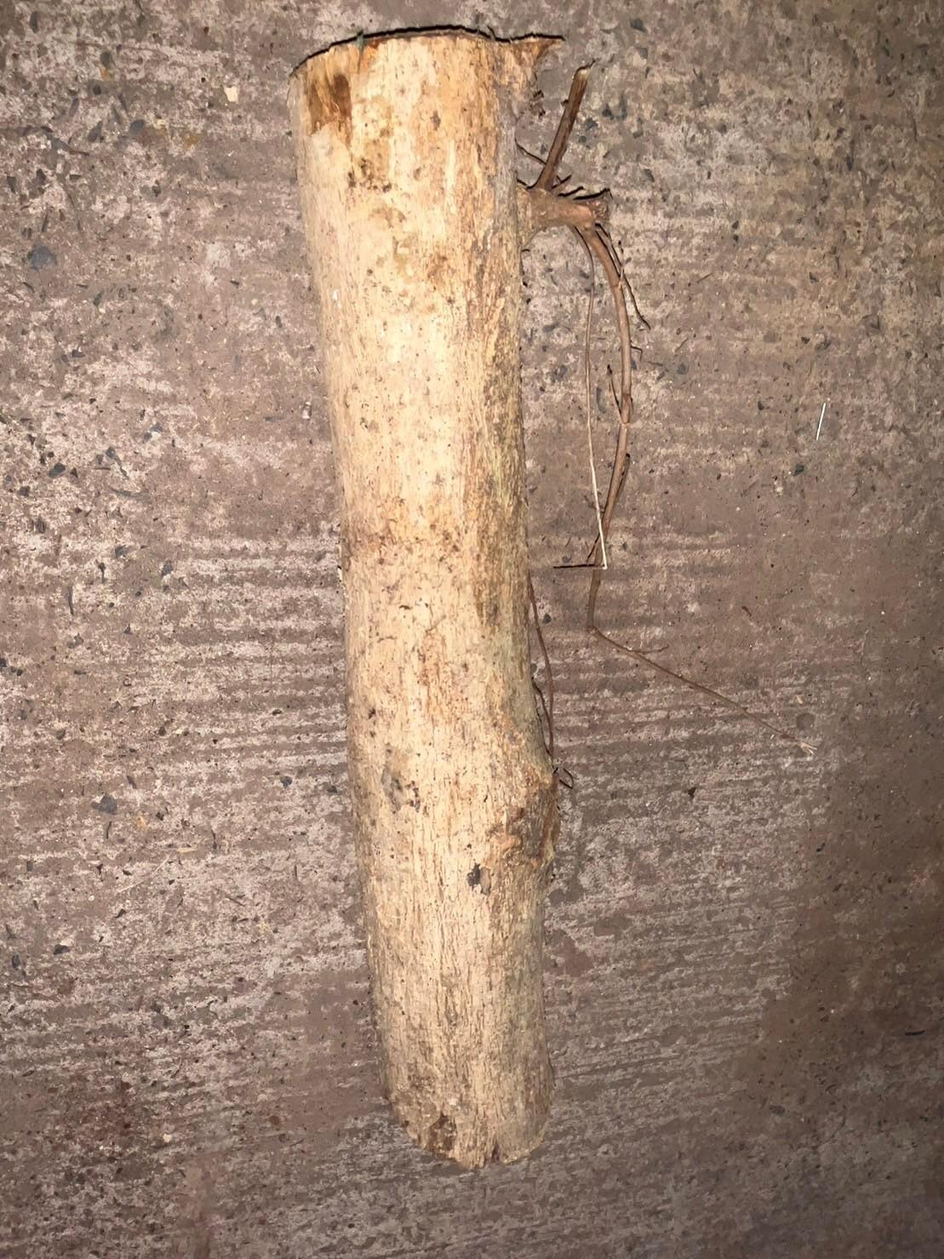Infectious: (284, 24, 574, 1169)
Sharps: (514, 61, 647, 571)
